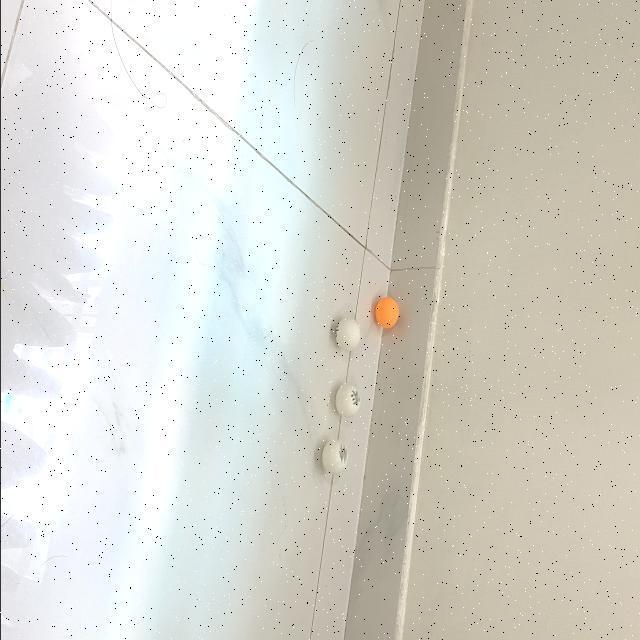ping-pong-ball: (321, 439, 349, 474), (334, 384, 359, 418), (334, 318, 358, 352), (374, 298, 398, 330)
